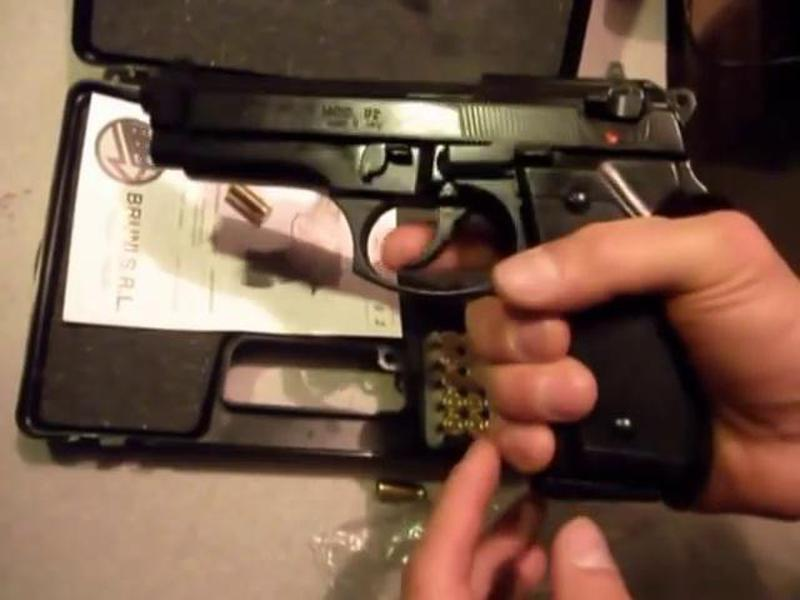Pistola: (124, 52, 727, 471)
